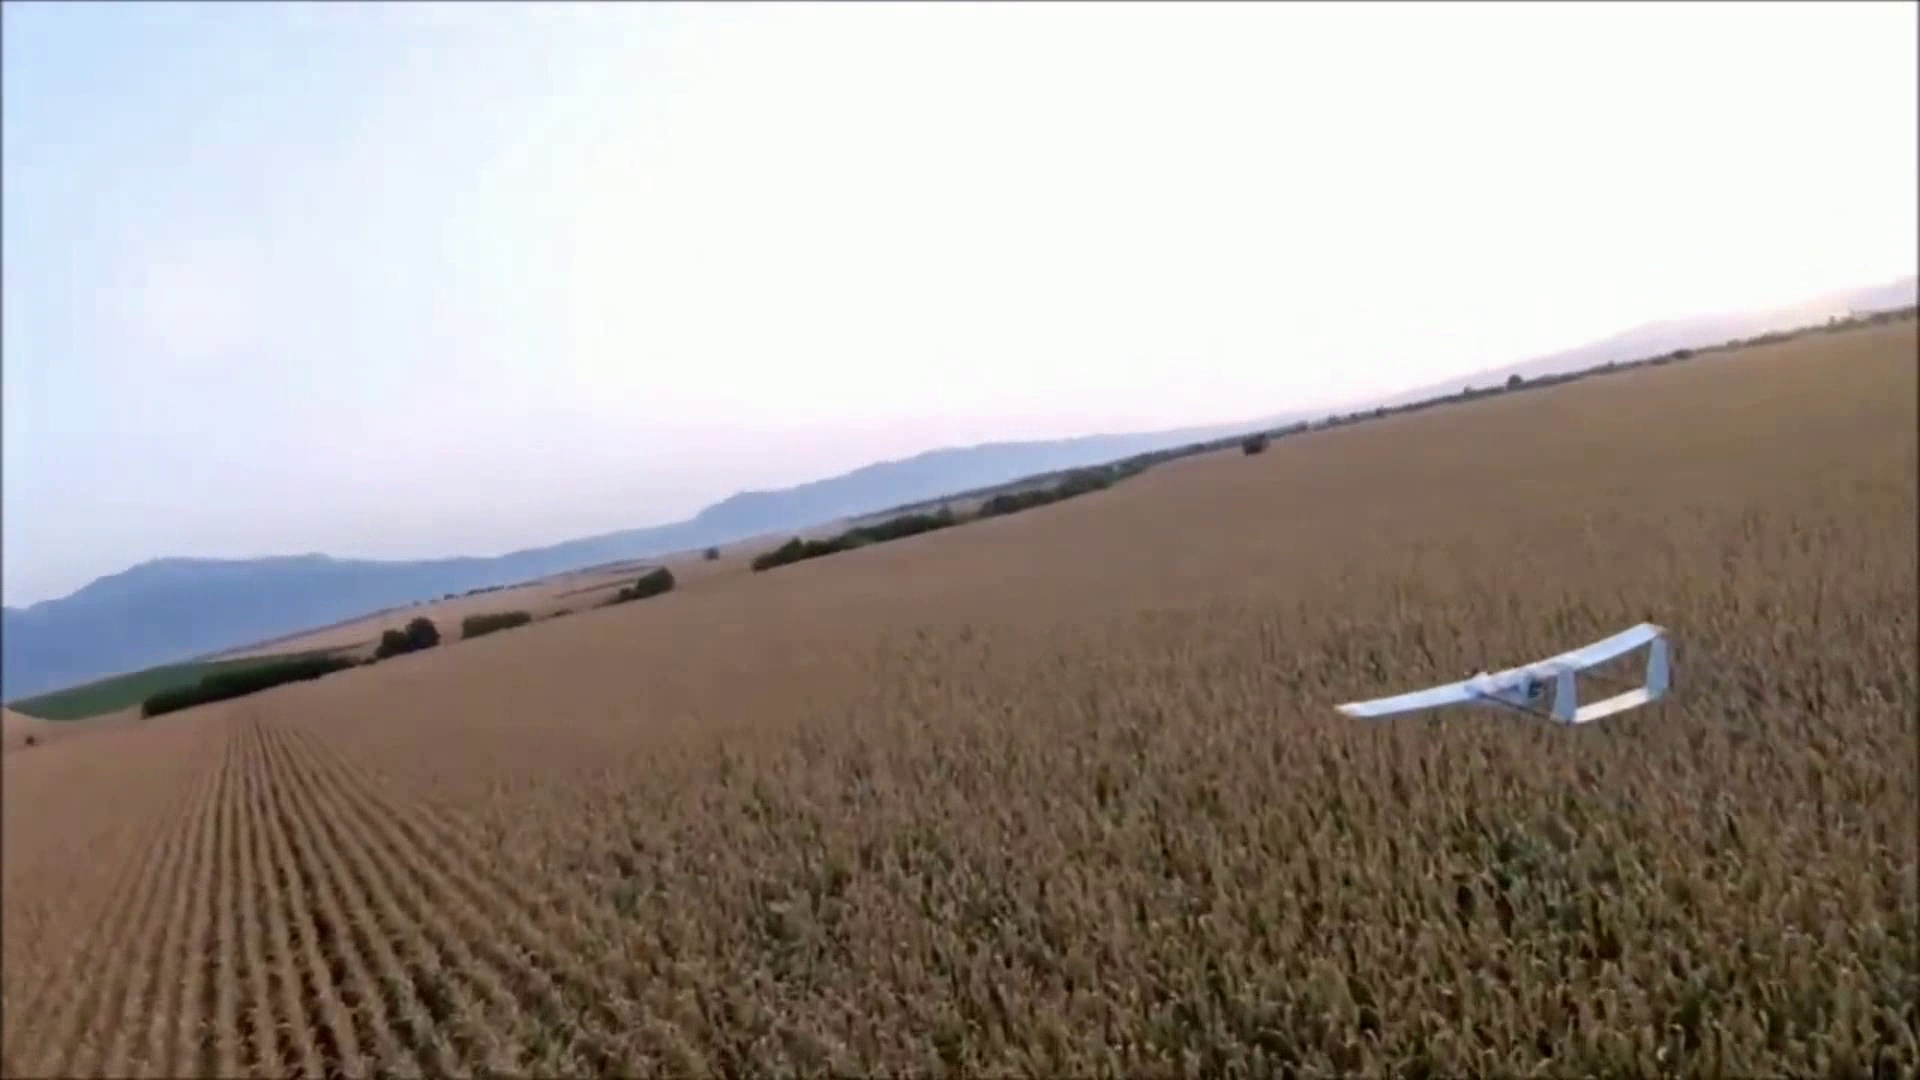airplane: (5, 288, 1894, 771), (1337, 623, 1677, 729)
